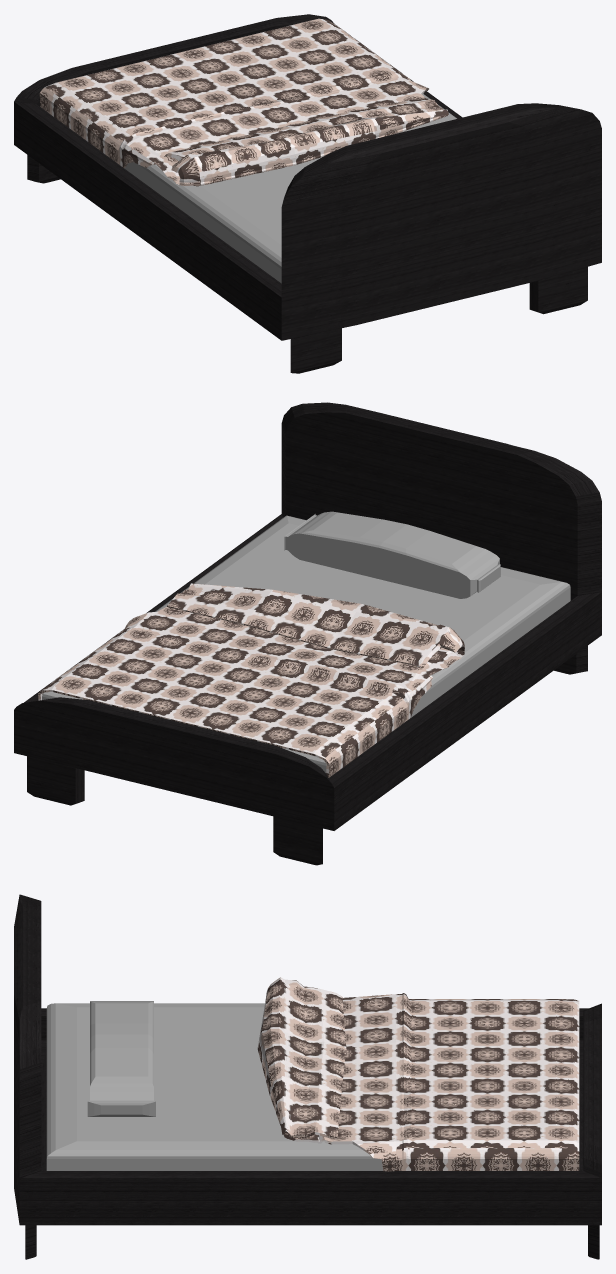
The model's file is cama_deshecha.fbx.
The picture shows the model from 3 angles, top to bottom: view 1: azimuth 30°, elevation 25°; view 2: azimuth 150°, elevation 25°; view 3: azimuth 270°, elevation 25°; orthographic projection. The views are drawn at different scales.
Parts seen in each view (by area): view 1: bed2:Mesh; view 2: bed2:Mesh; view 3: bed2:Mesh.
Boxes of the visible parts, box(x1,y1,x2,y2) form: bed2:Mesh: box(14, 14, 601, 373); bed2:Mesh: box(14, 402, 601, 865); bed2:Mesh: box(14, 894, 601, 1259).
Size of the model in its own units: 5.45 by 3.41 by 7.97.
3 materials, 2 textured.
